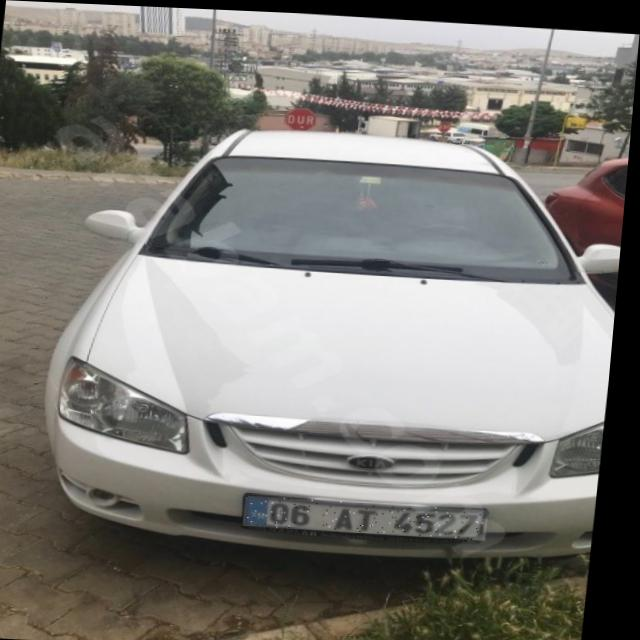license_plate: (252, 493, 497, 535)
